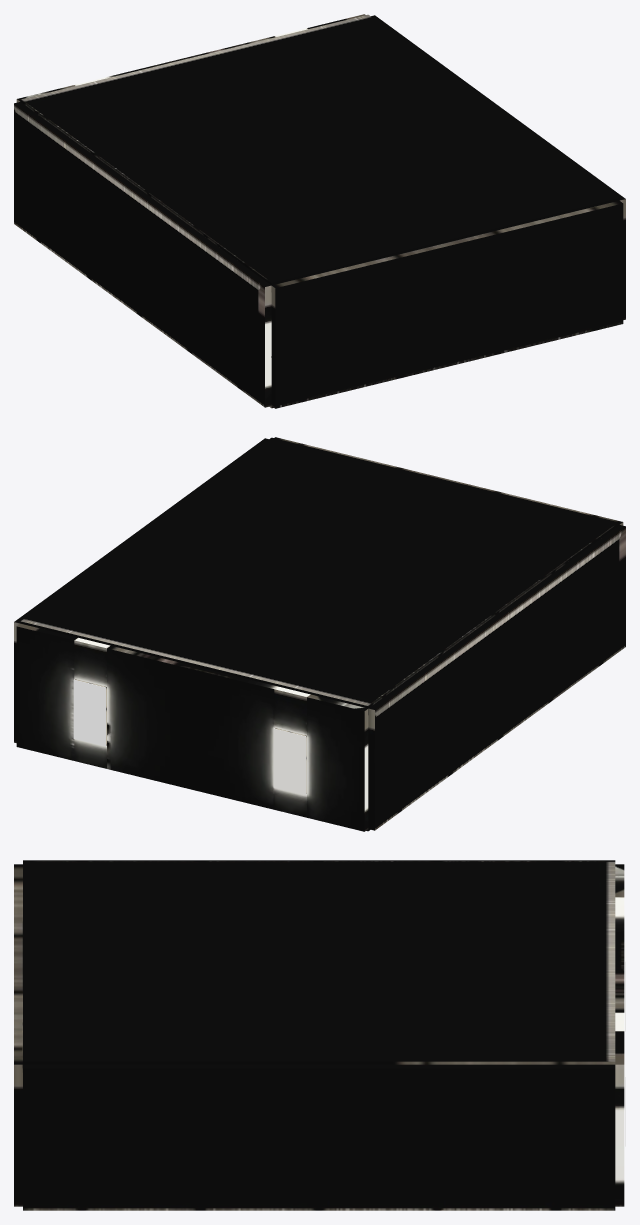
The model's file is einstein-trenton-courtroom.glb.
The picture shows the model from 3 angles, top to bottom: view 1: azimuth 30°, elevation 25°; view 2: azimuth 150°, elevation 25°; view 3: azimuth 270°, elevation 25°; orthographic projection. The views are drawn at different scales.
Parts seen in each view (by area): view 1: ceiling, walls; view 2: ceiling, walls, artifact_window_left, daylight_1; view 3: ceiling, walls.
Part boxes in pixels (x1,y1,x2,y2): ceiling: (20, 14, 619, 285); walls: (14, 14, 625, 408); ceiling: (20, 437, 619, 708); walls: (14, 437, 625, 831); artifact_window_left: (273, 728, 306, 795); daylight_1: (73, 679, 106, 746); ceiling: (23, 861, 615, 1064); walls: (14, 860, 624, 1210).
Bounding box in the file's own units: 16.6 × 5.5 × 20.66.
5 materials, 3 textured.
